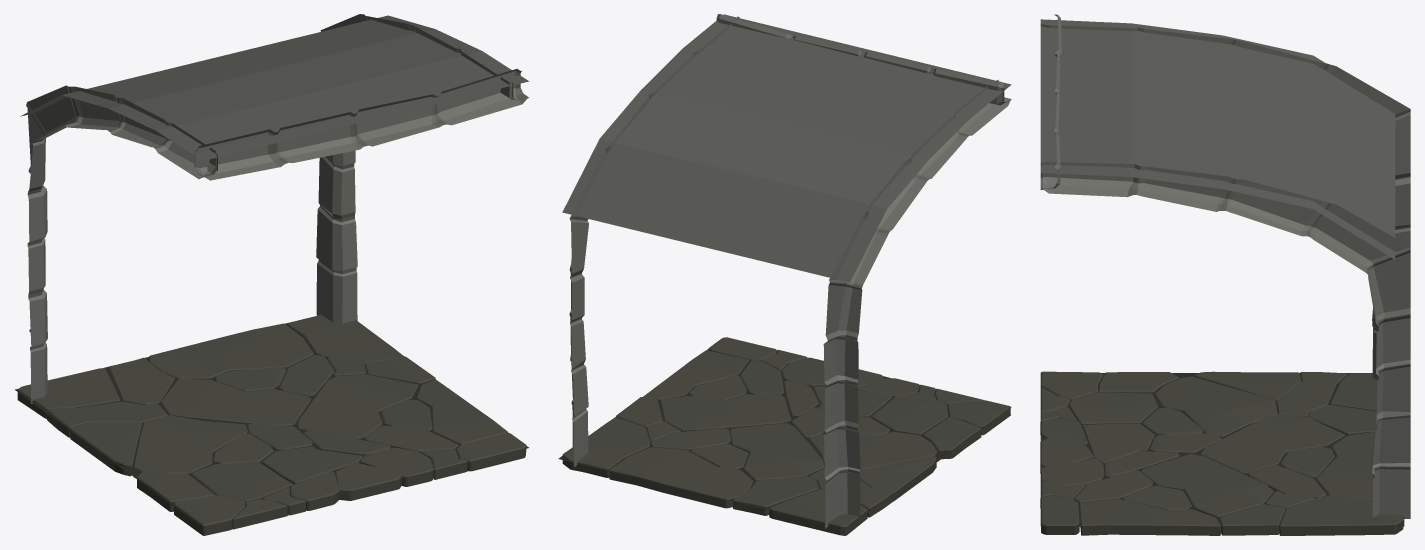
The model's file is Dungeon_Custom_Border_Flat.glb.
3 views of the same model, side by side, from view 1: azimuth 30°, elevation 25°; view 2: azimuth 150°, elevation 25°; view 3: azimuth 270°, elevation 25° (orthographic). The views are drawn at different scales.
Parts seen in each view (by area): view 1: Dungeon_Custom_Border_Flat.001; view 2: Dungeon_Custom_Border_Flat.001; view 3: Dungeon_Custom_Border_Flat.001.
Boxes of the visible parts, x1=… form: Dungeon_Custom_Border_Flat.001: x1=15, y1=14, x2=528, y2=535; Dungeon_Custom_Border_Flat.001: x1=558, y1=14, x2=1011, y2=535; Dungeon_Custom_Border_Flat.001: x1=1040, y1=14, x2=1410, y2=535.
Bounding box in the file's own units: 4.01 × 4.49 × 4.07.
2 materials, 2 textured.
